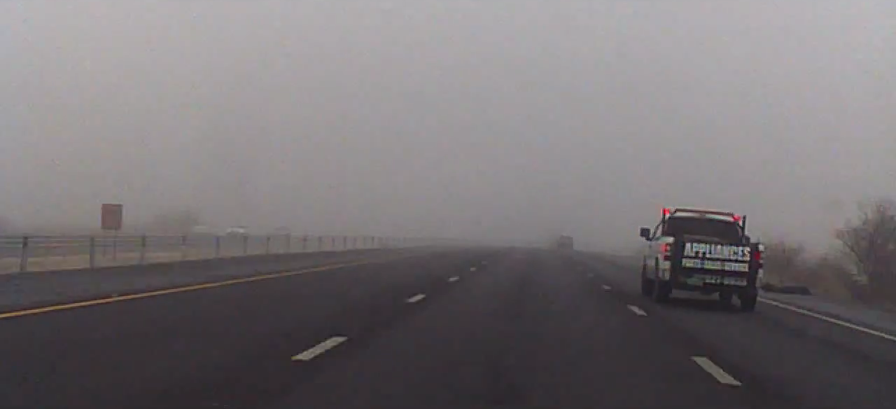car: (637, 202, 766, 311), (223, 220, 250, 242), (555, 233, 575, 251)
